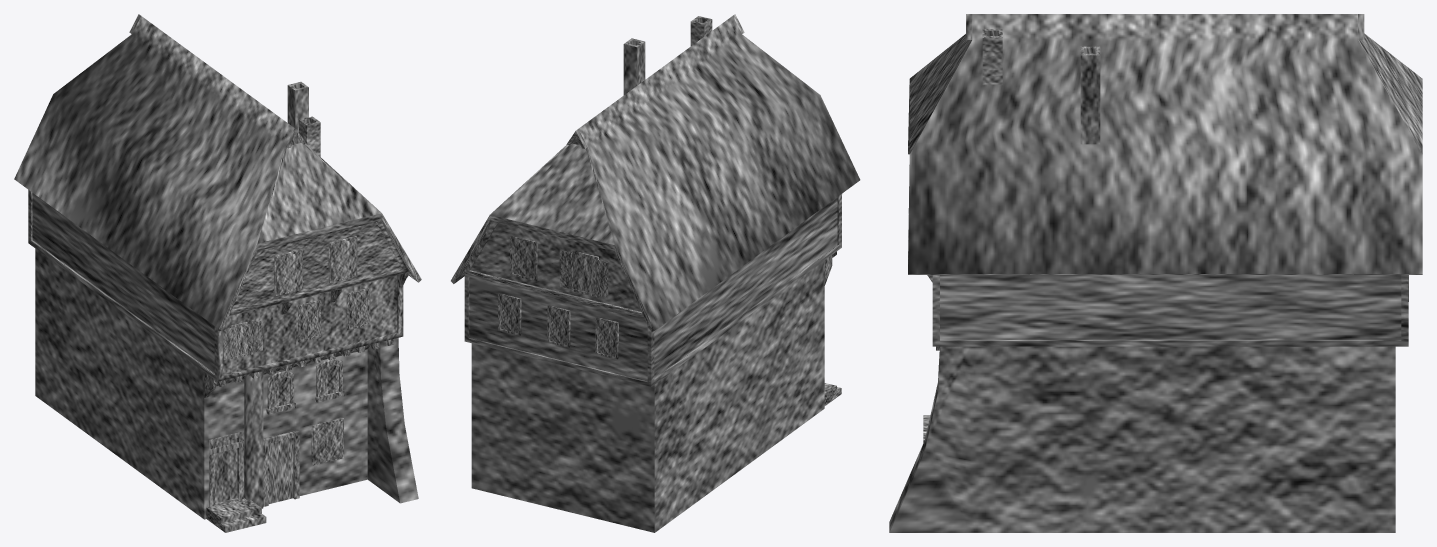
Rendered from hus1.fbx.
The picture shows the model from 3 angles, left to right: view 1: azimuth 30°, elevation 25°; view 2: azimuth 150°, elevation 25°; view 3: azimuth 270°, elevation 25°; orthographic projection. The views are drawn at different scales.
Parts seen in each view (by area): view 1: medium_h_1; view 2: medium_h_1; view 3: medium_h_1.
Part boxes in pixels (x1,y1,x2,y2): medium_h_1: (14, 14, 421, 532); medium_h_1: (451, 14, 860, 532); medium_h_1: (889, 14, 1422, 532).
Size of the model in its own units: 374 by 650 by 678.
1 material, 1 textured.
